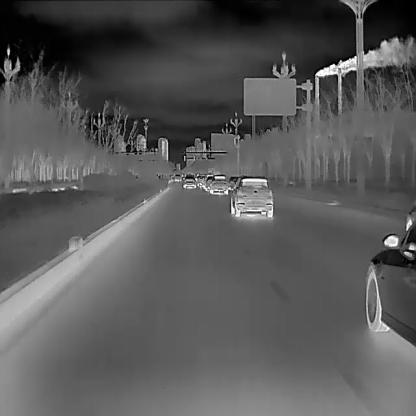car: (364, 218, 415, 346), (230, 174, 272, 218), (209, 173, 227, 196), (182, 174, 196, 188)
